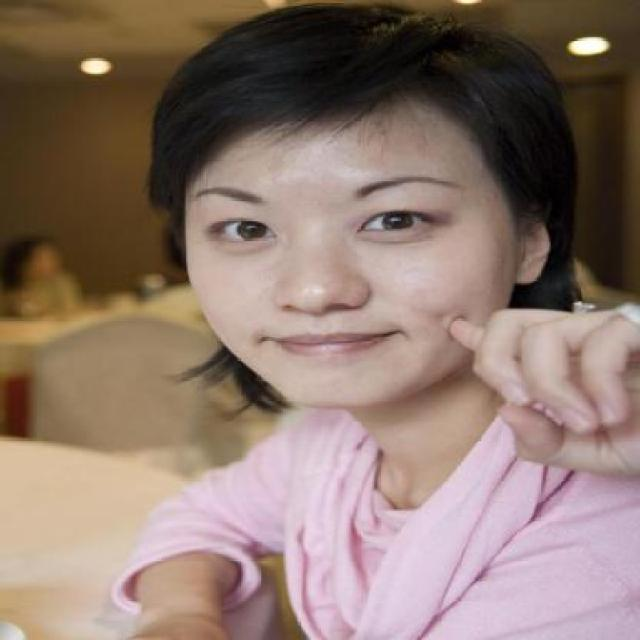awake: (204, 214, 276, 246), (355, 207, 433, 235)
